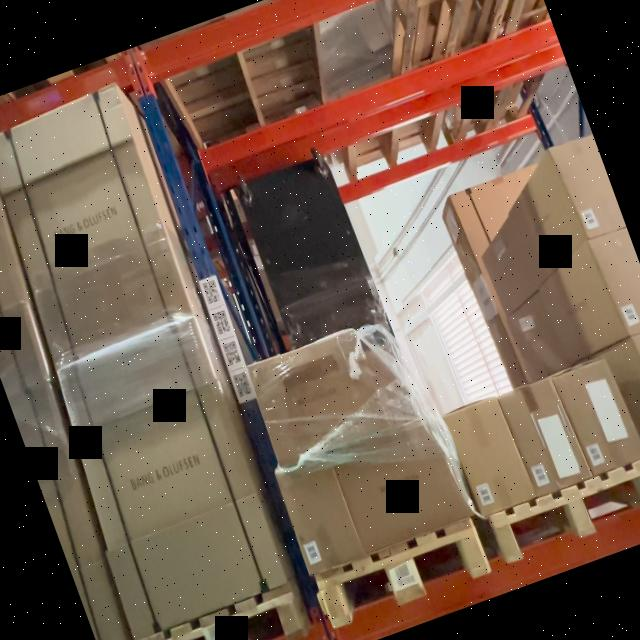box: (58, 316, 289, 640), (0, 85, 193, 367), (327, 412, 474, 554), (247, 328, 391, 469), (498, 379, 593, 498), (444, 398, 537, 517), (552, 358, 640, 477), (276, 459, 366, 575)
